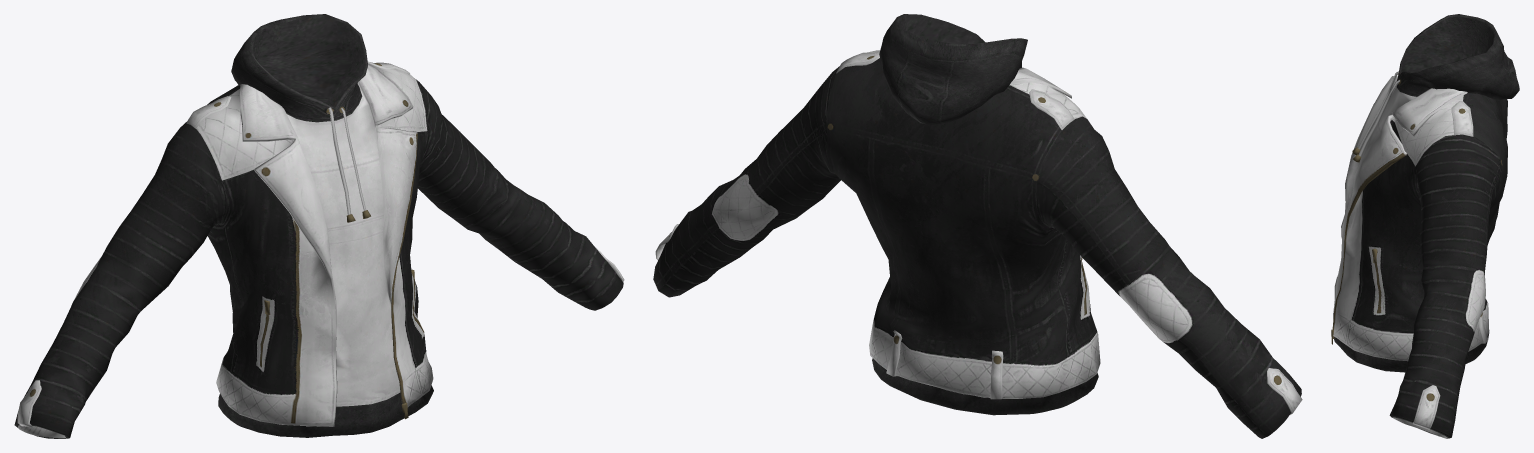
File: SurvivorMale_Chest_Jacket_PaddedLeather_Down_LOD0.glb
3 renders of one model, left to right at view 1: azimuth 30°, elevation 25°; view 2: azimuth 150°, elevation 25°; view 3: azimuth 270°, elevation 25°, orthographic. The views are drawn at different scales.
Parts seen in each view (by area): view 1: Hoodie; view 2: Hoodie; view 3: Hoodie.
Part boxes in pixels (x1=…): Hoodie: x1=14, y1=14, x2=624, y2=438; Hoodie: x1=653, y1=14, x2=1302, y2=438; Hoodie: x1=1331, y1=14, x2=1519, y2=438.
Bounding box in the file's own units: 1.18 × 0.6511 × 0.3672.
1 material, 1 textured.
